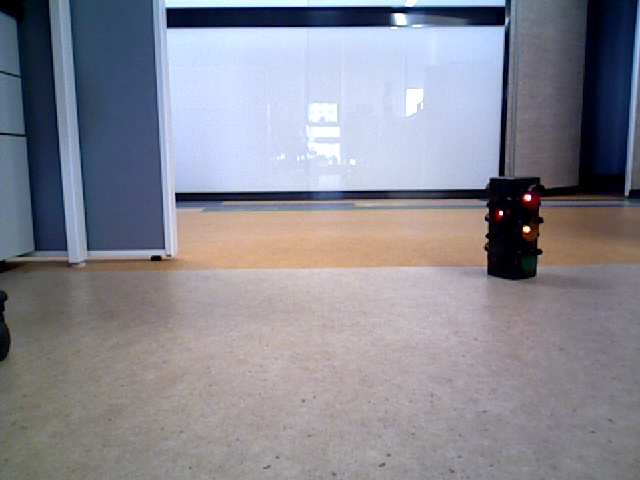red: (490, 182, 535, 276)
